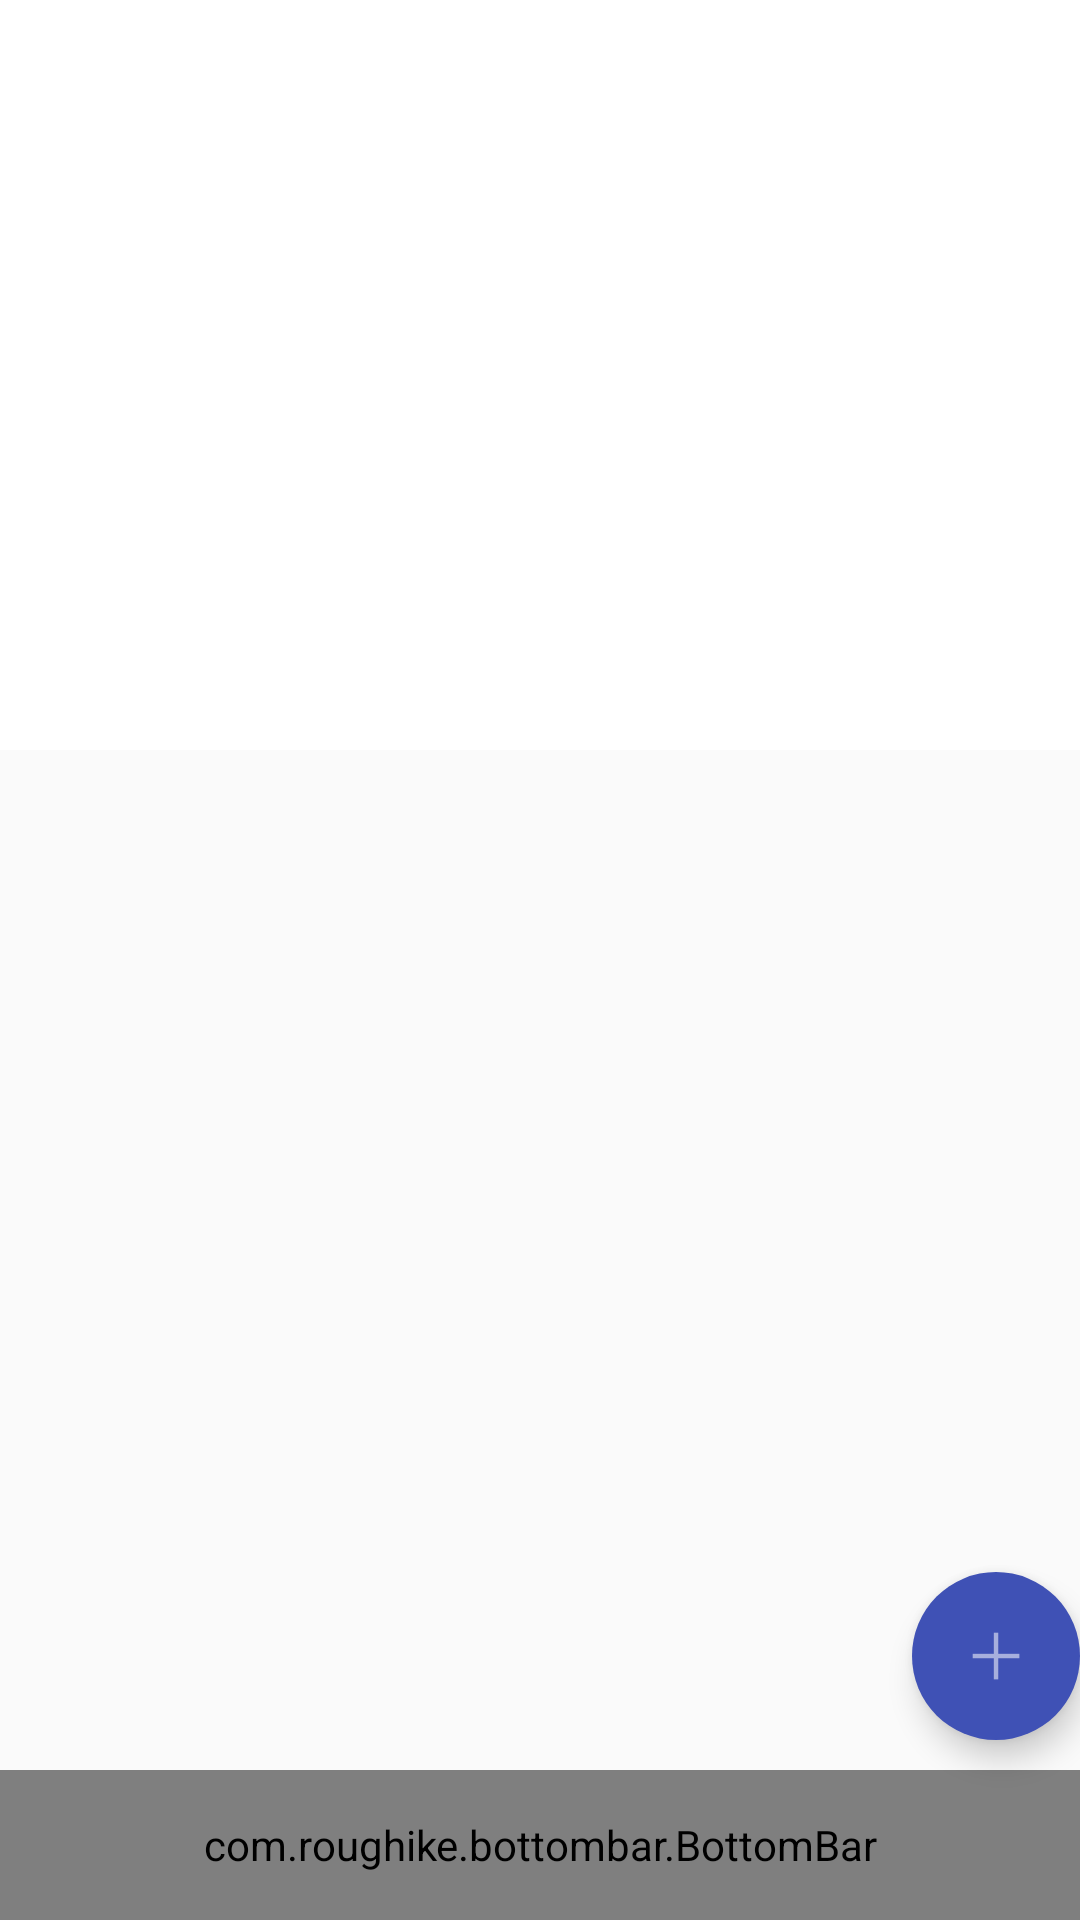

Icon bounding boxes for this 1080px×1920px phone screenshot, format BBox(x1, y1, x2, y2):
add: BBox(912, 1572, 1080, 1740)
